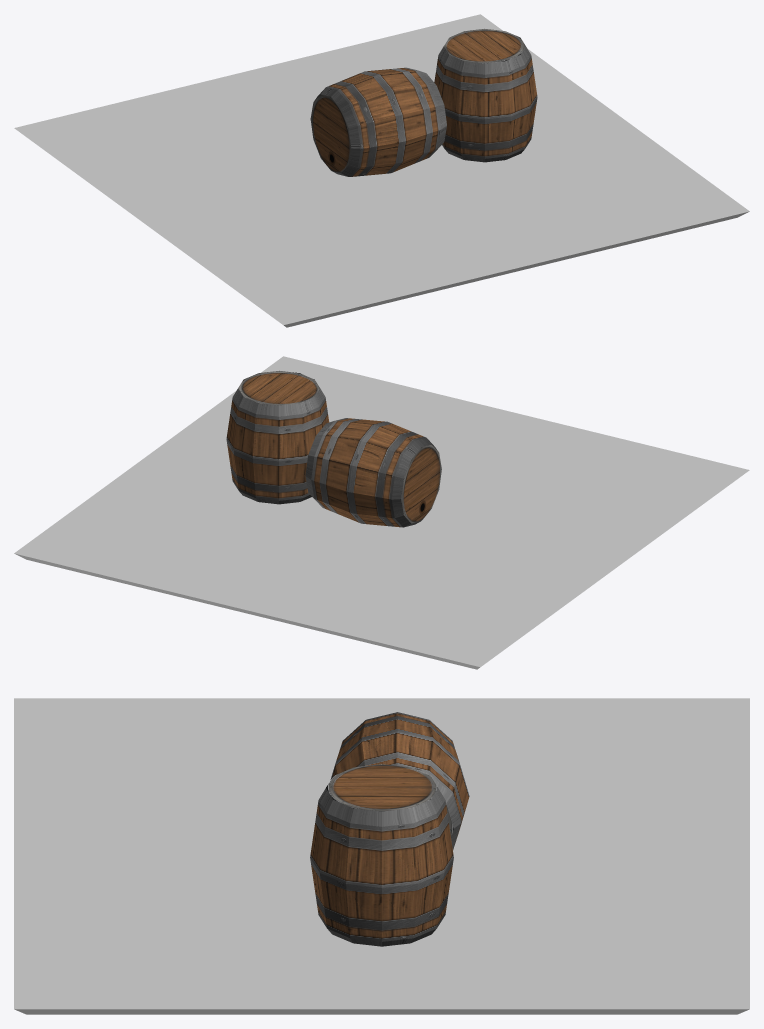
File: barrelwithfloor.gltf
3 renders of one model, top to bottom at view 1: azimuth 30°, elevation 25°; view 2: azimuth 150°, elevation 25°; view 3: azimuth 270°, elevation 25°, orthographic. The views are drawn at different scales.
Parts seen in each view (by area): view 1: Cylinder.001; view 2: Cylinder.001; view 3: Cylinder.001.
Part boxes in pixels (x1=…): Cylinder.001: x1=14, y1=14, x2=749, y2=327; Cylinder.001: x1=14, y1=356, x2=749, y2=669; Cylinder.001: x1=14, y1=698, x2=749, y2=1014.
Bounding box in the file's own units: 11.6 × 2.52 × 11.6.
